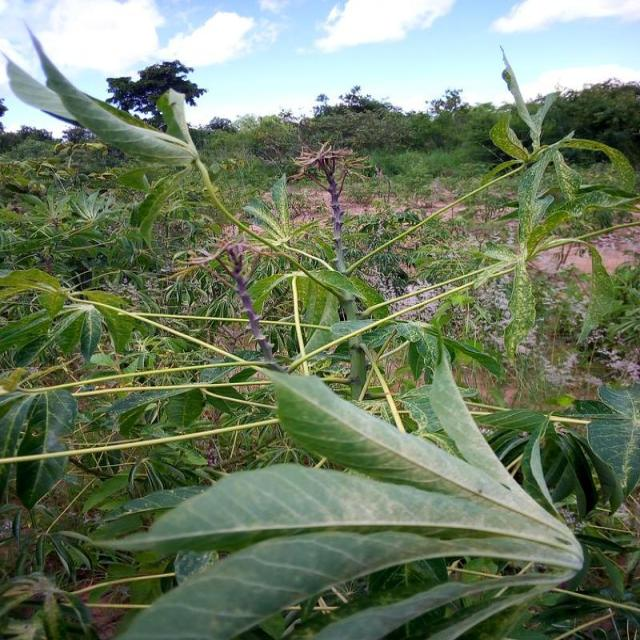cassava leaf: (105, 341, 585, 638), (3, 21, 198, 168)
